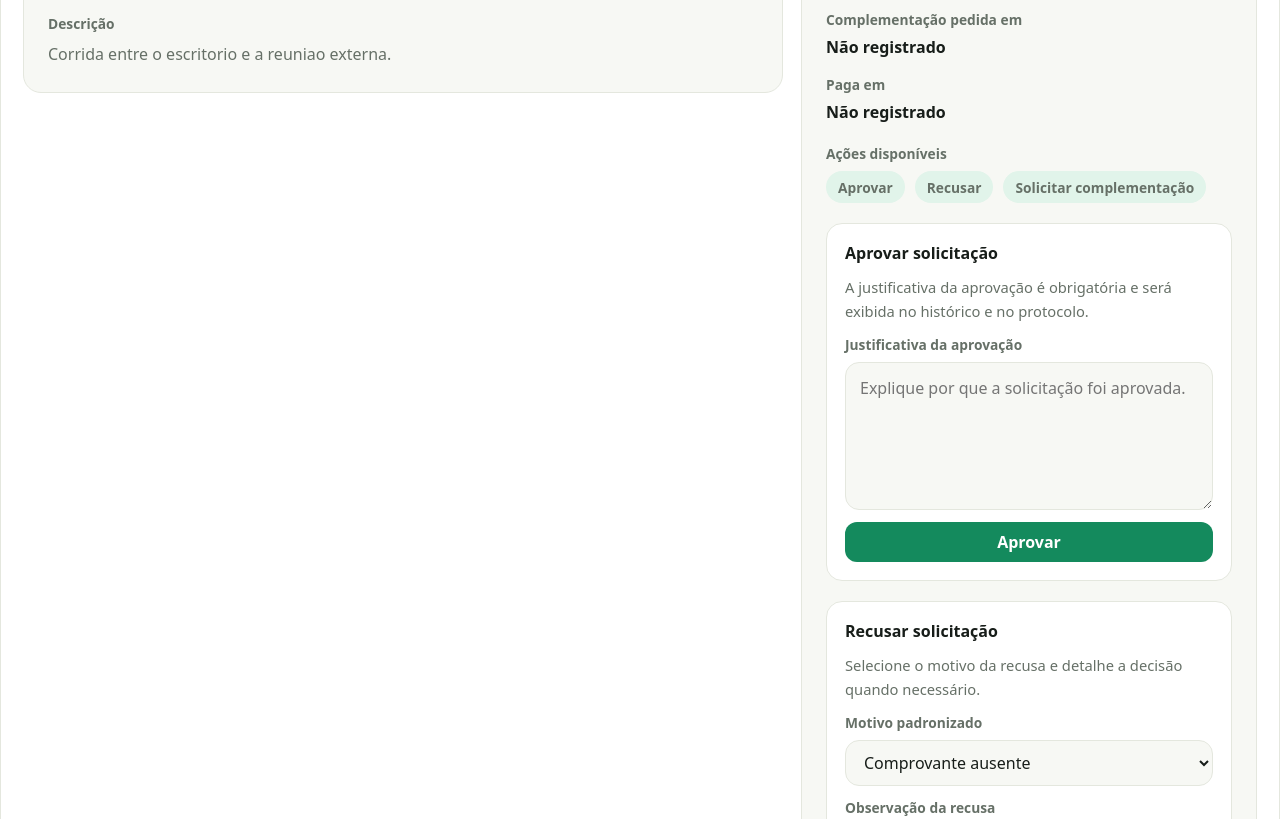
Test: ReimbursementDetailView › deve aprovar a solicitacao com justificativa obrigatoria
This screenshot has width=1280, height=819.
(page scrolled)
Step 1. Type "Solicitação aprovada após conferência do comprovante e do centro de custo." into the text box labelled "Justificativa da aprovação" → (1029, 436), box [845,362,1213,510]
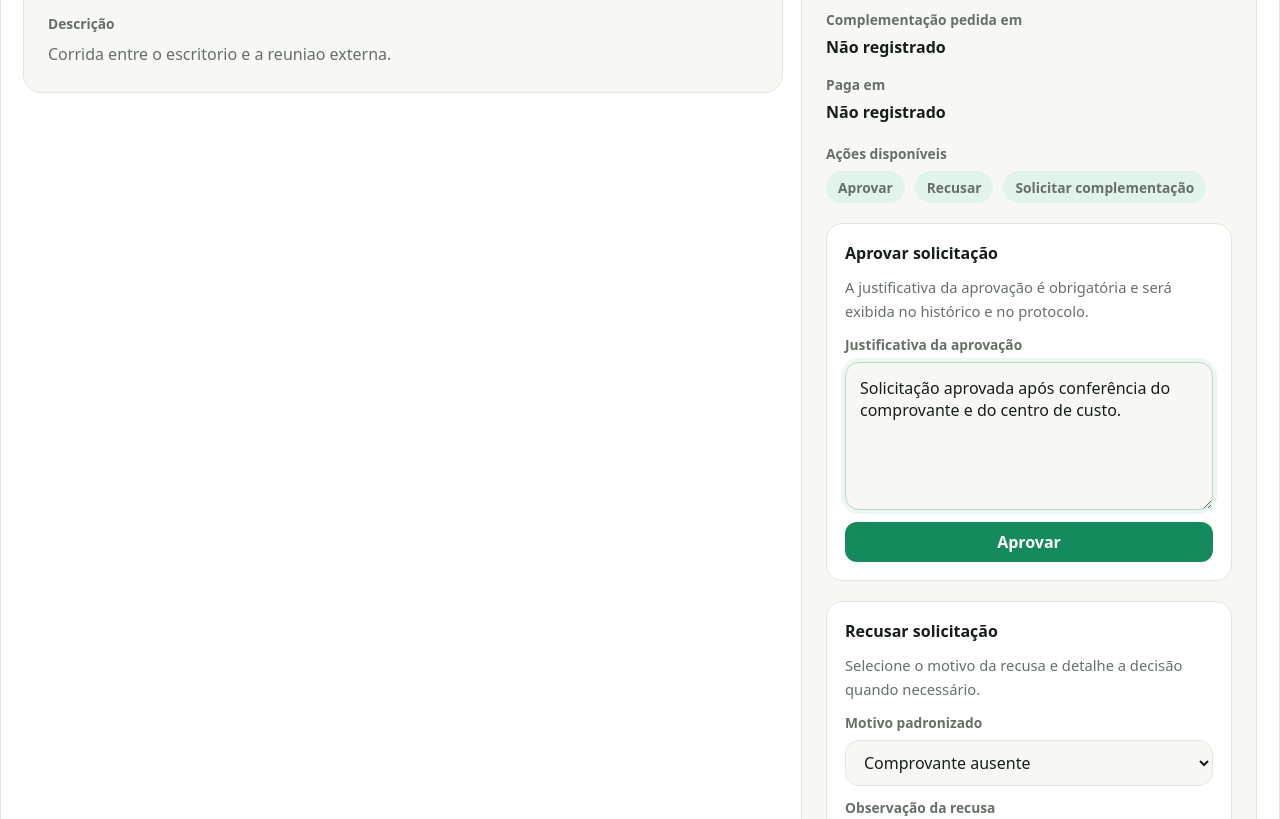
Step 2. Click the button "Aprovar" → (1029, 542), box [845,522,1213,562]
(page scrolled)
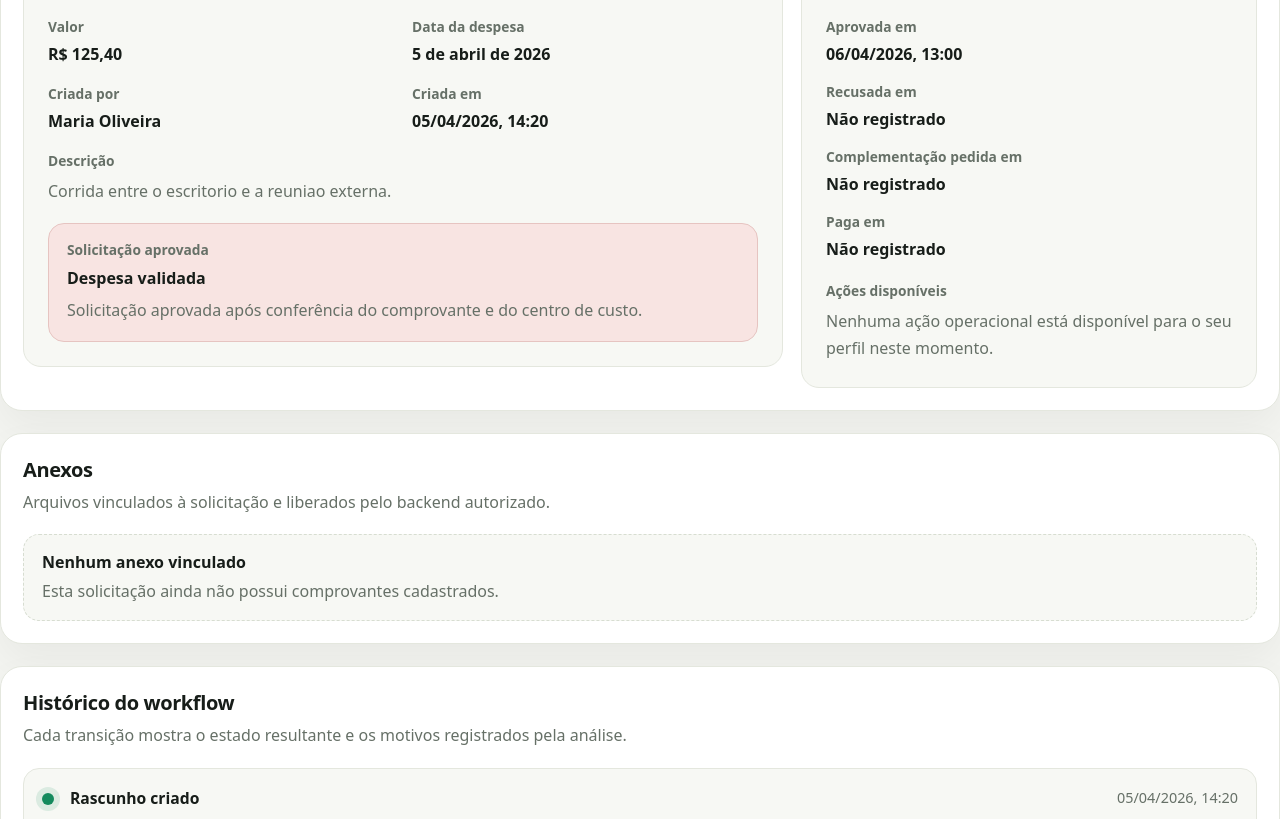
Now the text "Despesa validada" is shown, box [67,267,206,289]
